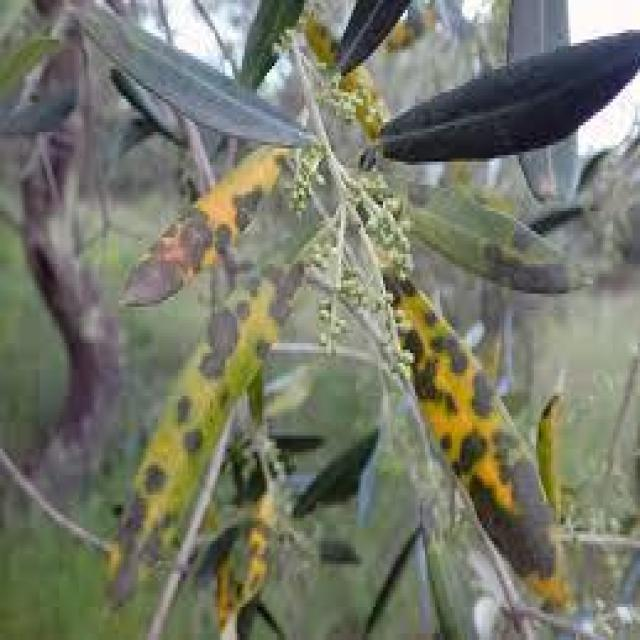OlivePeacockSpot: (108, 264, 302, 600), (386, 274, 560, 600), (121, 152, 274, 304), (410, 184, 588, 294)
